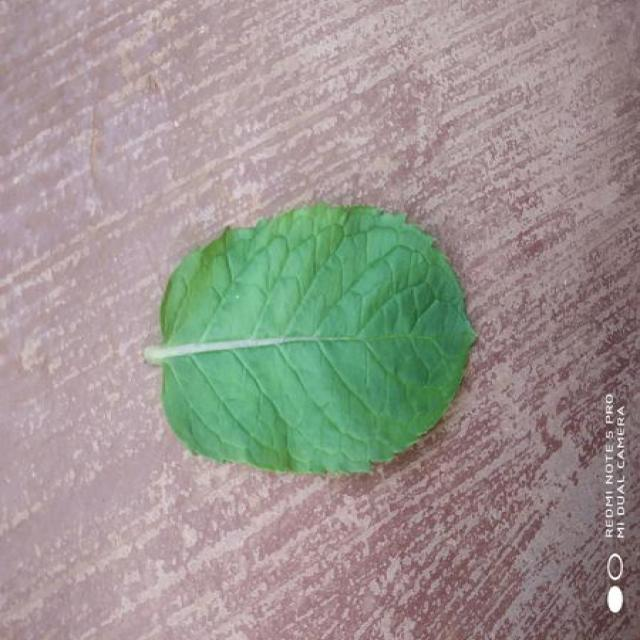mint: (143, 204, 475, 473)
